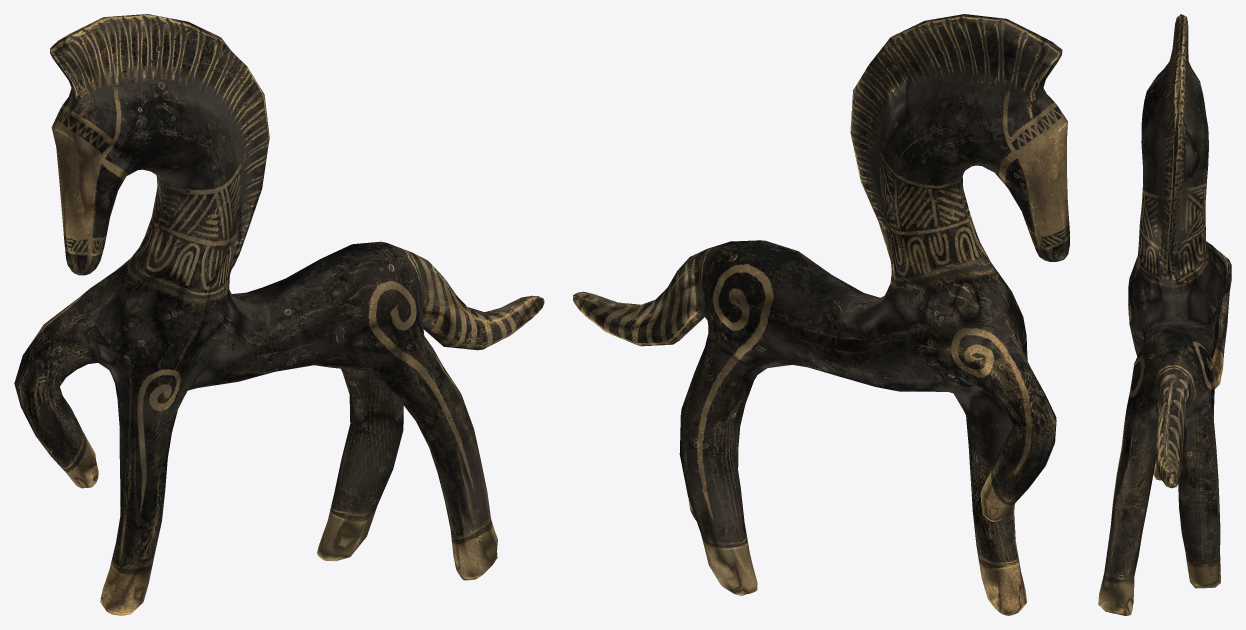
Rendered from horse-transformed.glb.
3 renders of one model, left to right at view 1: azimuth 30°, elevation 25°; view 2: azimuth 150°, elevation 25°; view 3: azimuth 270°, elevation 25°, orthographic. The views are drawn at different scales.
Visible parts, largest first — view 1: SM_Mystic_Treasure_G_PaceHorse; view 2: SM_Mystic_Treasure_G_PaceHorse; view 3: SM_Mystic_Treasure_G_PaceHorse.
Part boxes in pixels (x1,y1,x2,y2): SM_Mystic_Treasure_G_PaceHorse: [14, 14, 544, 615]; SM_Mystic_Treasure_G_PaceHorse: [573, 14, 1069, 615]; SM_Mystic_Treasure_G_PaceHorse: [1098, 14, 1231, 615].
Size of the model in its own units: 26.77 by 31.26 by 7.99.
1 material, 1 textured.
